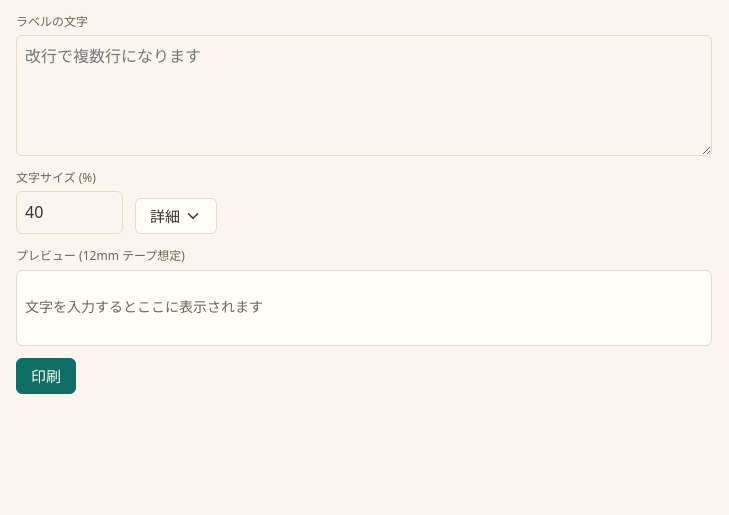
Print › shows only 文字サイズ until 詳細 is opened
Check: the number field labelled "文字サイズ (%)" holds "40", box [16, 191, 123, 234]
Check: the dropdown labelled "フォント" is not shown
Click the button "詳細". click: (176, 216)
box: [135, 198, 217, 234]
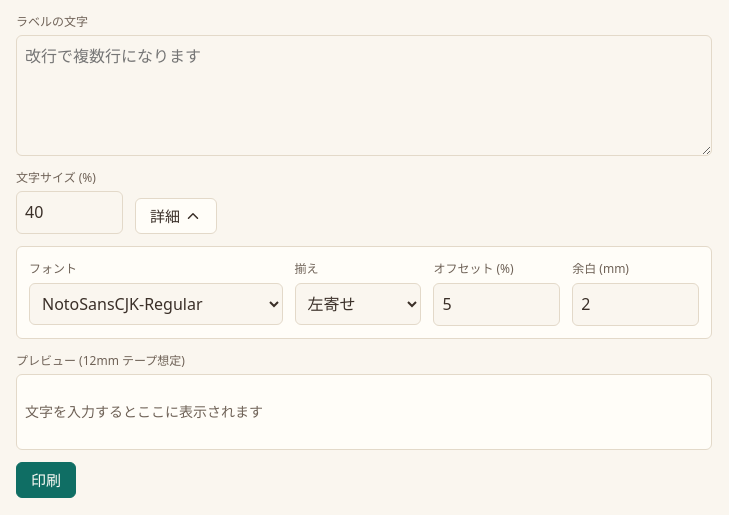
Check: the button "詳細" is expanded, box [135, 198, 217, 234]
Check: the dropdown labelled "フォント" shows "NotoSansCJK-Regular", box [29, 282, 283, 324]
Check: the number field labelled "オフセット (%)" holds "5", box [433, 282, 560, 326]
